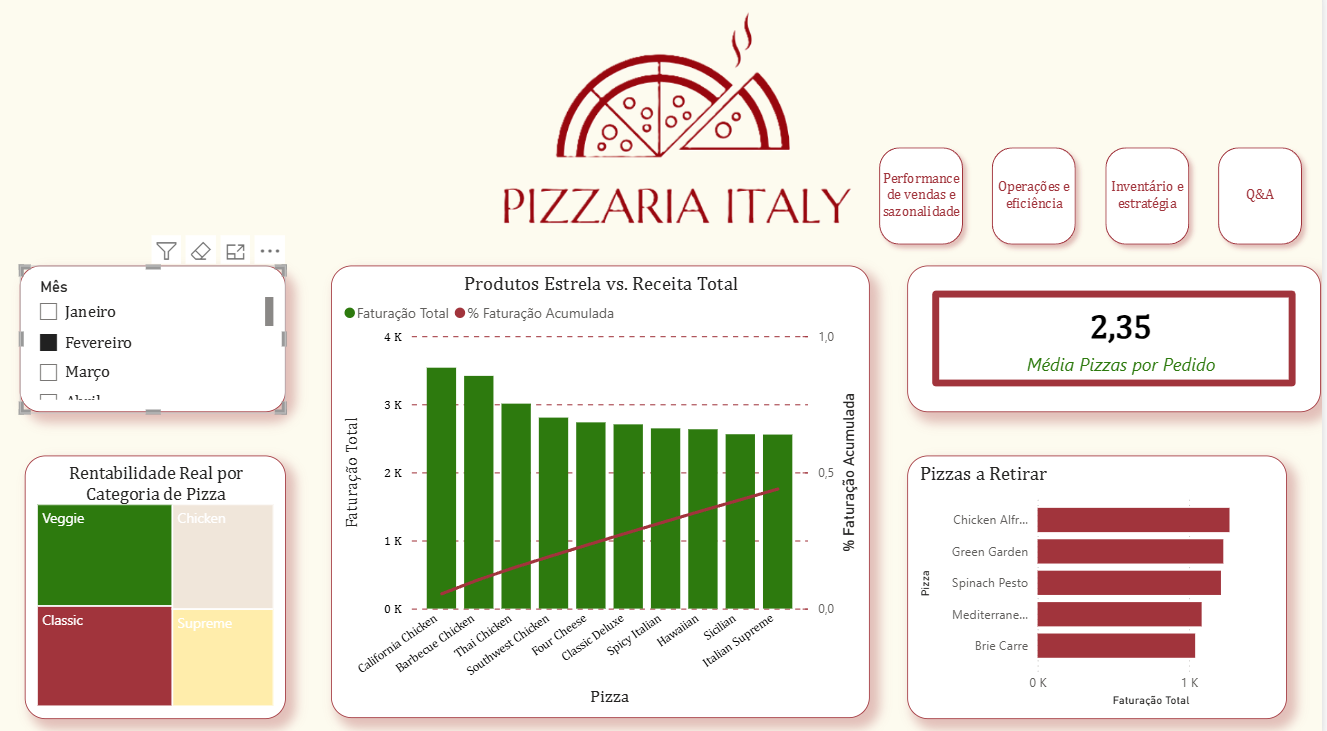

What the dashboard file says about the page in this screenshot:
{"tool":"powerbi","page":{"name":"Inteligência de menu e produto","canvas":[1280,720],"ordinal":2},"visuals":[{"type":"lineClusteredColumnComboChart","title":"Produtos Estrela vs. Receita Total","fields":{"Category":["Dim_Produtos_Info.Pizza"],"Y":["Fact_Vendas_Detalhe.Faturação Total"],"Y2":["Dim_Produtos_Info.% Faturação Acumulada"]},"box":[323.3,263.3,520,436.7],"z":0},{"type":"treemap","title":"Rentabilidade Real por Categoria de Pizza","fields":{"Values":["Dim_Produtos_Info.Margem Estimada"],"Group":["Dim_Produtos_Info.Categoria"]},"box":[28,446,252,254],"z":1000},{"type":"cardVisual","fields":{"Data":["Dim_Produtos_Info.Média Pizzas por Pedido"]},"box":[879.9,263,399.5,141.6],"z":2000},{"type":"slicer","fields":{"Values":["Dim_Calendario.Mês"]},"box":[23.3,263.3,256.7,141.7],"z":3000},{"type":"clusteredBarChart","title":"Pizzas a Retirar ","fields":{"Category":["Dim_Produtos_Info.Pizza"],"Y":["Fact_Vendas_Detalhe.Faturação Total"]},"box":[880,446,366,254],"z":4000},{"type":"pageNavigator","box":[843.3,139.9,428.3,112.2],"z":5000}]}

Visuals, with their boxes in screenshot pixels (x1, y1, x2, y2), scaled from the page's 1280x720 canvas onto the 1327x731 screenshot:
"Produtos Estrela vs. Receita Total" lineClusteredColumnComboChart: bbox=[335, 267, 874, 711]
"Rentabilidade Real por Categoria de Pizza" treemap: bbox=[29, 453, 290, 711]
cardVisual - Dim_Produtos_Info.Média Pizzas por Pedido: bbox=[912, 267, 1326, 411]
slicer - Dim_Calendario.Mês: bbox=[24, 267, 290, 411]
"Pizzas a Retirar " clusteredBarChart: bbox=[912, 453, 1292, 711]
pageNavigator: bbox=[874, 142, 1318, 256]
